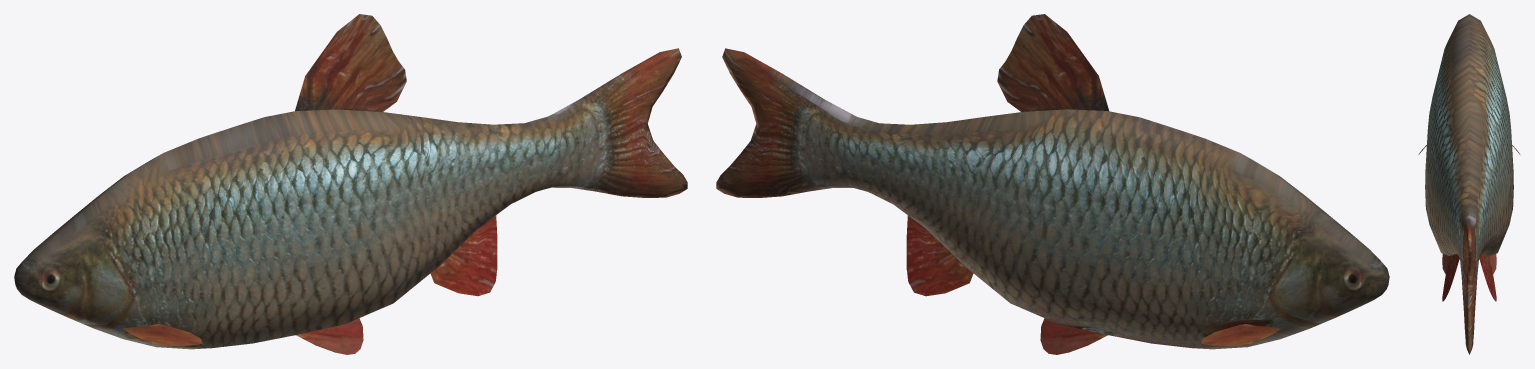
Rendered from Fisch.fbx.
3 renders of one model, left to right at view 1: azimuth 30°, elevation 25°; view 2: azimuth 150°, elevation 25°; view 3: azimuth 270°, elevation 25°, orthographic. The views are drawn at different scales.
Parts seen in each view (by area): view 1: Plane; view 2: Plane; view 3: Plane.
Part boxes in pixels (<box>): Plane: <box>14,14,687,354</box>; Plane: <box>716,14,1389,354</box>; Plane: <box>1418,14,1520,354</box>.
Bounding box in the file's own units: 32.61 × 15.03 × 5.37.
